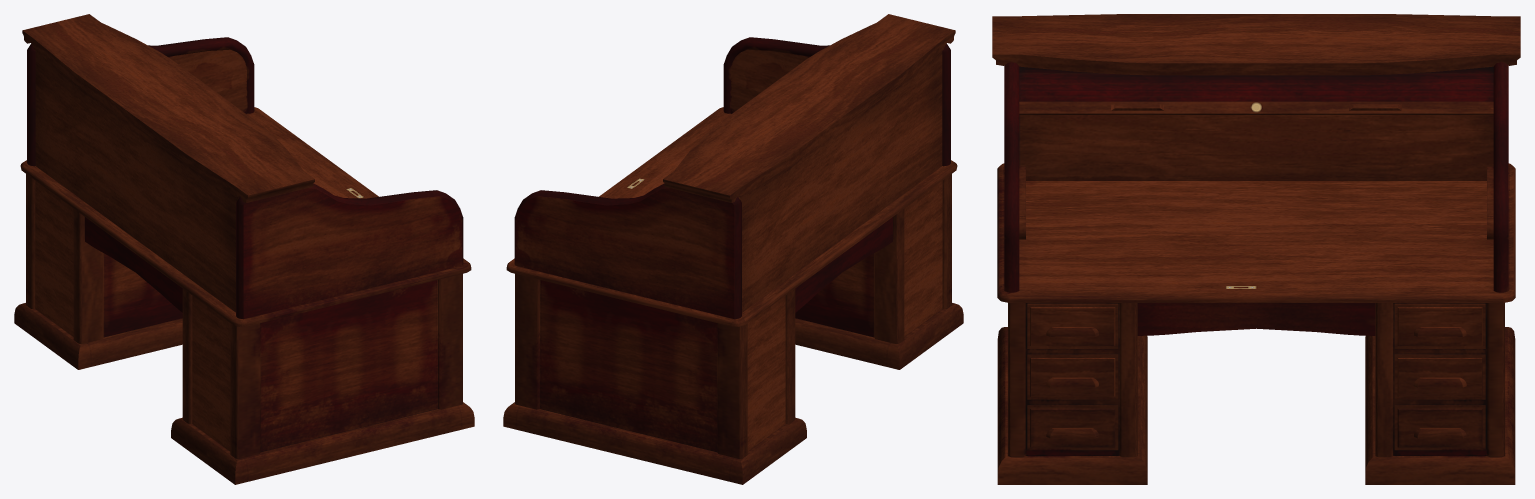
The model's file is table.glb.
3 views of the same model, side by side, from view 1: azimuth 30°, elevation 25°; view 2: azimuth 150°, elevation 25°; view 3: azimuth 270°, elevation 25° (orthographic). The views are drawn at different scales.
Visible parts, largest first — view 1: Table; view 2: Table; view 3: Table.
Boxes of the visible parts, <box> form: Table: <box>14,14,474,484</box>; Table: <box>503,14,963,484</box>; Table: <box>992,14,1520,484</box>.
Bounding box in the file's own units: 0.097 × 0.1112 × 0.1577.
Materials: 1 (1 with a texture image).
